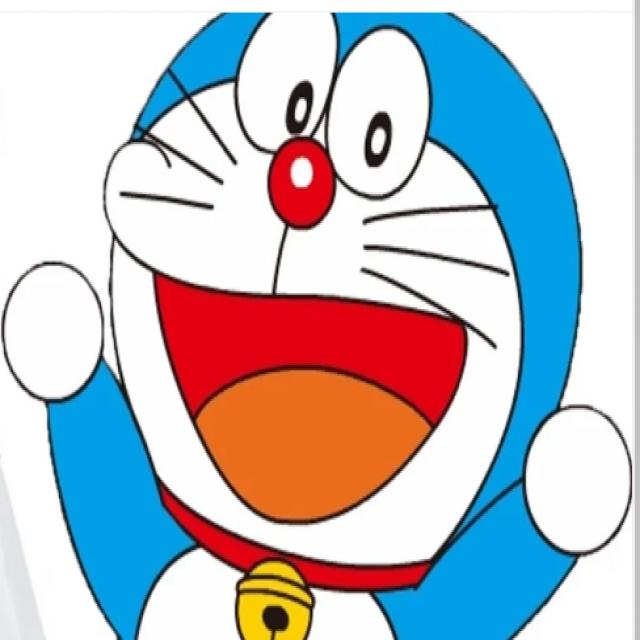Ameng: (63, 13, 602, 570)
